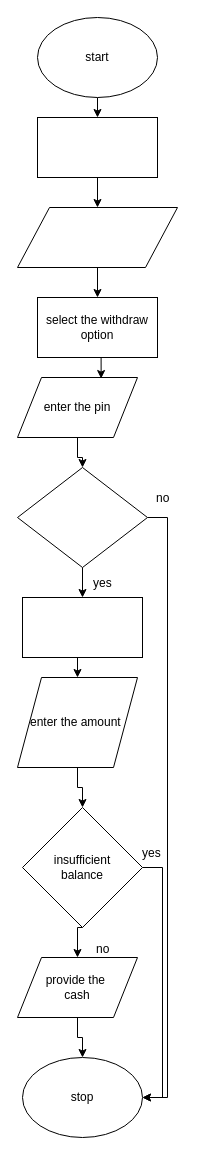
Image size: 202x1155. Some labels were removed from this diagram. The shapes that lost their labels are listed below. From the top down, each one's box as (x1, y1, x2, y2) in pixels, then its label:
(36, 116, 158, 178): insert the card
(16, 206, 178, 268): read the card
(16, 466, 148, 568): valid
(22, 596, 142, 658): select the type of account
